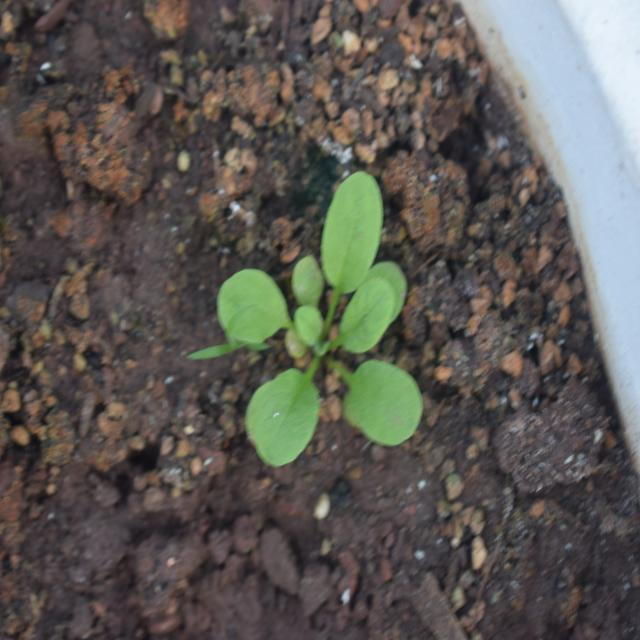Shepherd_Purse: (230, 160, 456, 464)
